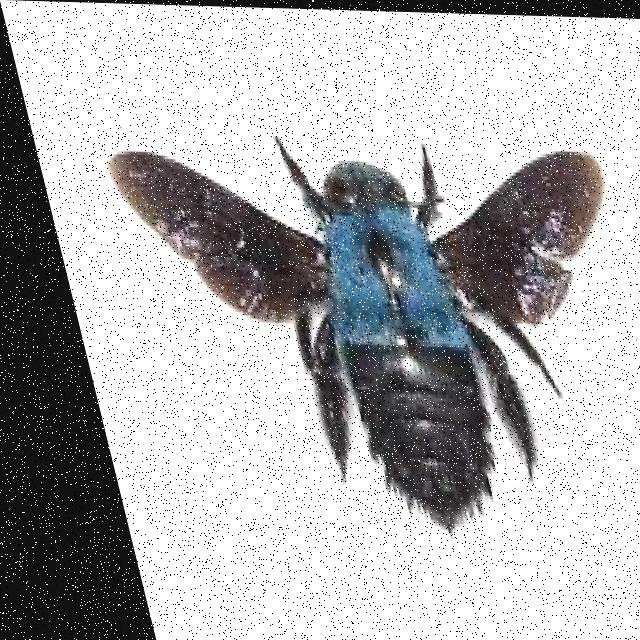Xylocopa: (78, 104, 640, 535)
